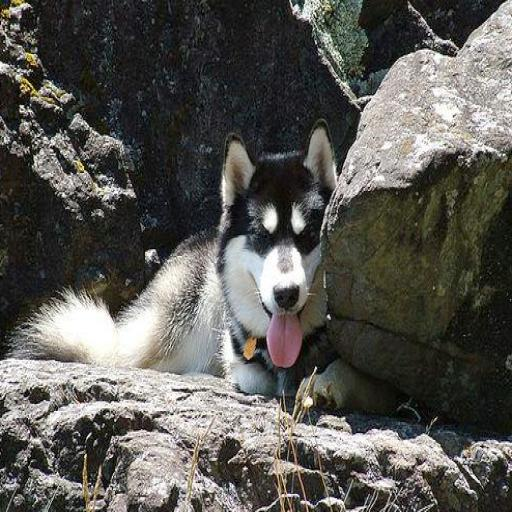dog_face: (218, 128, 341, 367)
